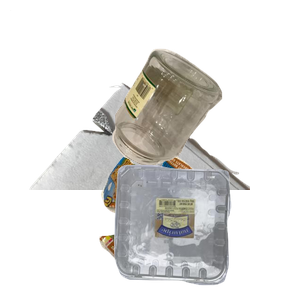glass: (110, 46, 300, 205)
paper: (10, 10, 250, 190)
plastic: (112, 162, 300, 300)
trash: (97, 151, 283, 300)
